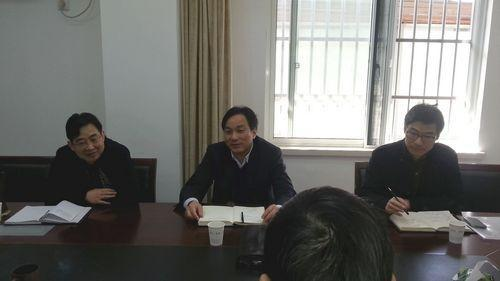NoHelmet: (221, 105, 259, 152)
